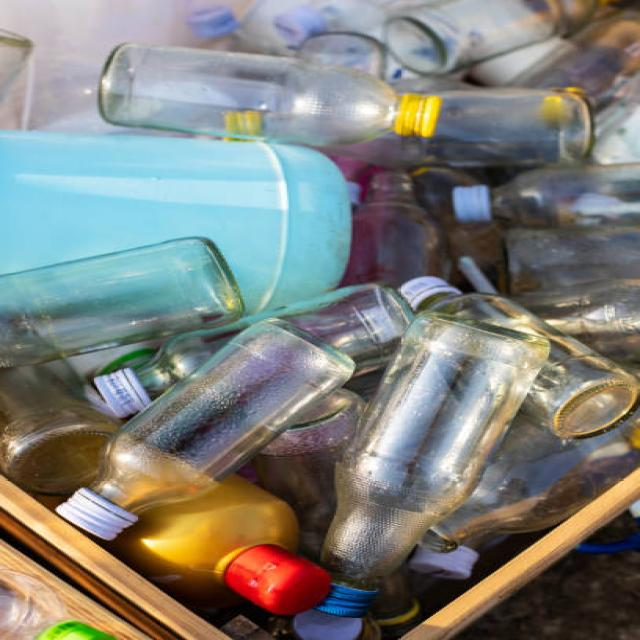glass: (62, 279, 598, 554), (80, 19, 612, 213)
